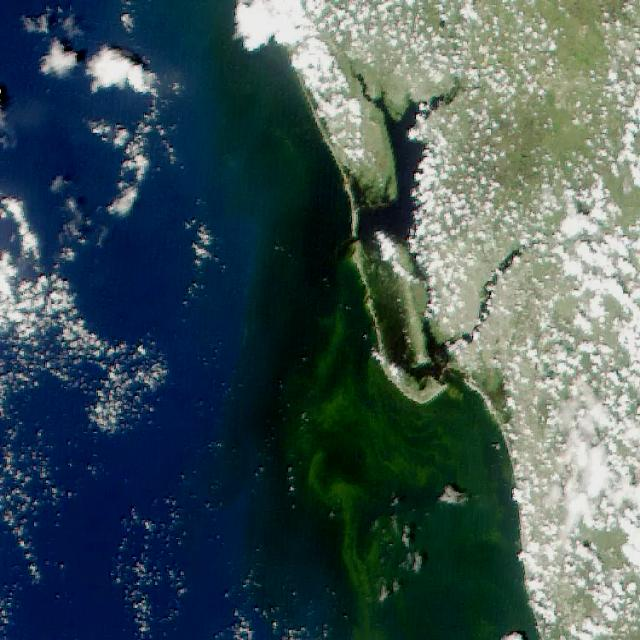algal: (225, 46, 537, 639)
